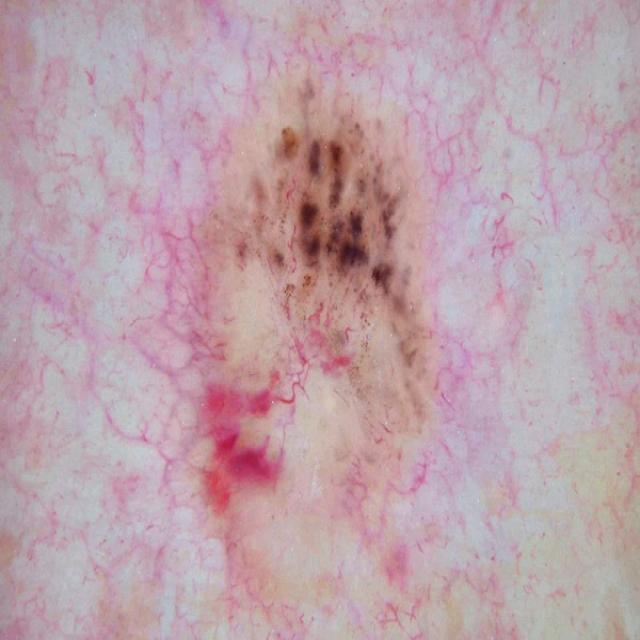Basal-Cell-Carcinoma-BCC-: (127, 94, 524, 574)
